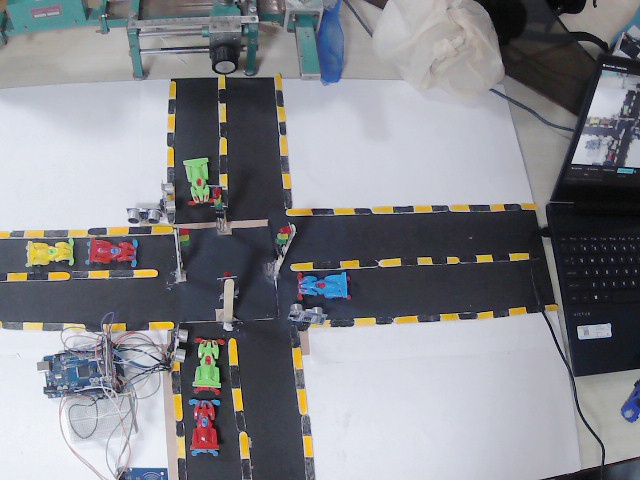car: (189, 398, 237, 456), (194, 337, 232, 395), (179, 157, 217, 207), (297, 273, 364, 301), (83, 237, 137, 268), (22, 237, 79, 263)
traffic_light: (215, 272, 247, 303), (272, 223, 297, 262), (208, 188, 231, 220), (177, 222, 192, 260)
uno_breadboard: (28, 335, 135, 451), (286, 306, 335, 329), (125, 205, 159, 236), (113, 465, 177, 480), (164, 327, 187, 365), (154, 185, 178, 216)
